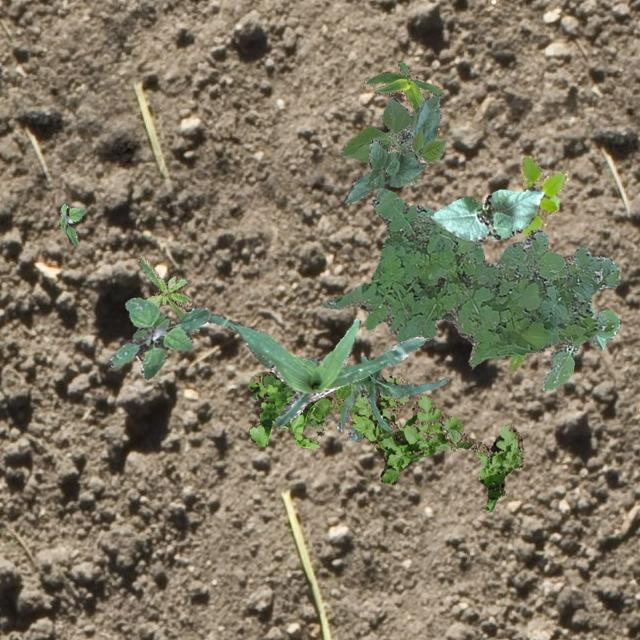crop: (206, 314, 424, 428), (338, 92, 446, 184), (336, 356, 448, 432), (428, 186, 544, 242), (362, 61, 442, 138), (344, 138, 424, 204)
weed: (321, 188, 618, 368), (246, 371, 524, 512), (108, 296, 208, 378), (542, 304, 618, 390), (247, 370, 321, 448), (138, 254, 198, 334), (520, 154, 568, 234), (59, 202, 85, 245), (508, 352, 528, 372), (348, 424, 364, 442)
